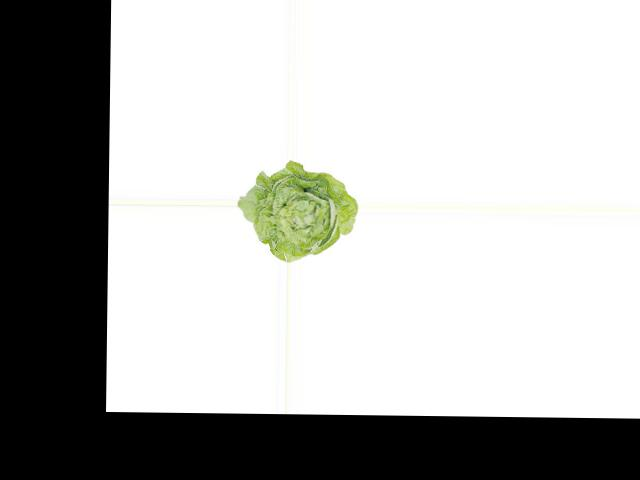lettuce: (240, 160, 359, 262)
